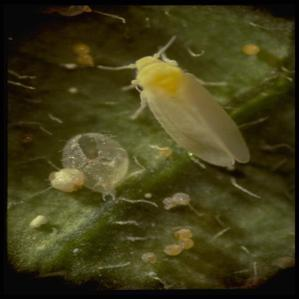Silverleaf whitefly: (83, 37, 261, 178), (39, 126, 135, 210), (155, 191, 208, 269)
